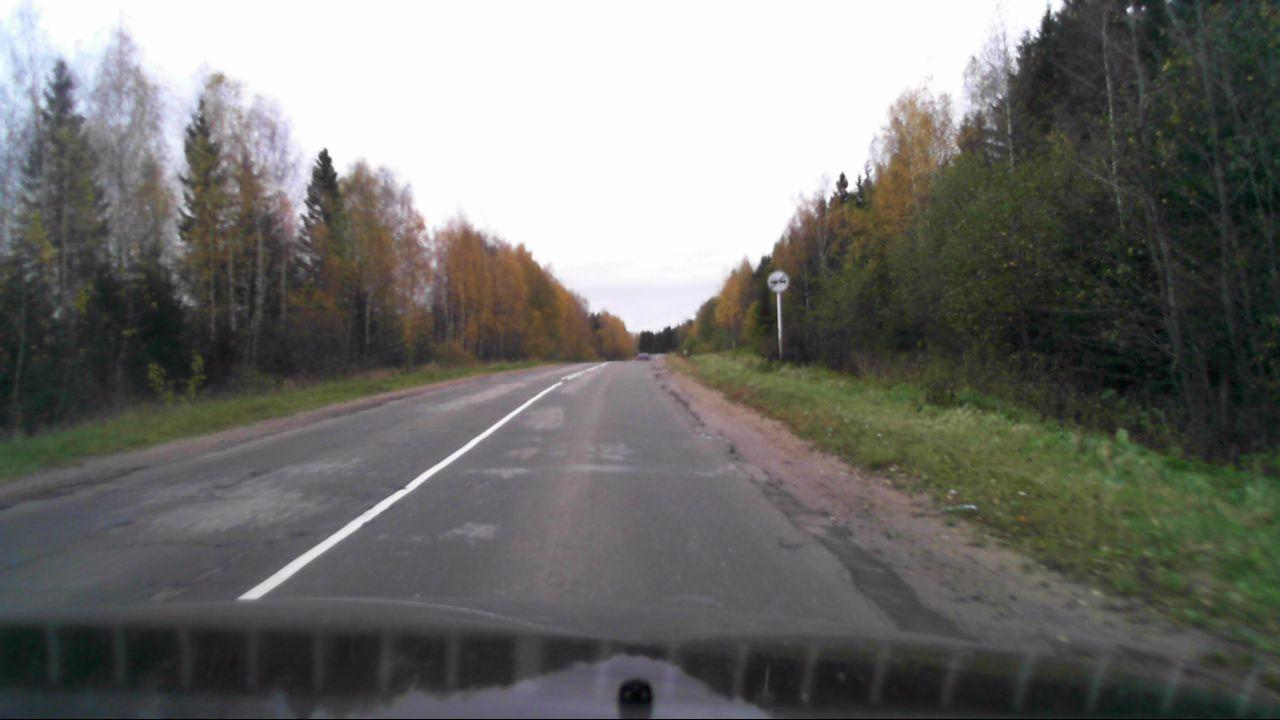3_21: (766, 270, 789, 293)
